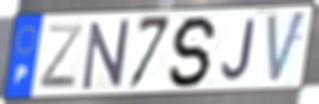7: (125, 14, 174, 94)
J: (219, 17, 256, 82)
N: (81, 17, 131, 93)
S: (167, 14, 221, 89)
V: (265, 8, 308, 87)
Z: (37, 22, 86, 90)
